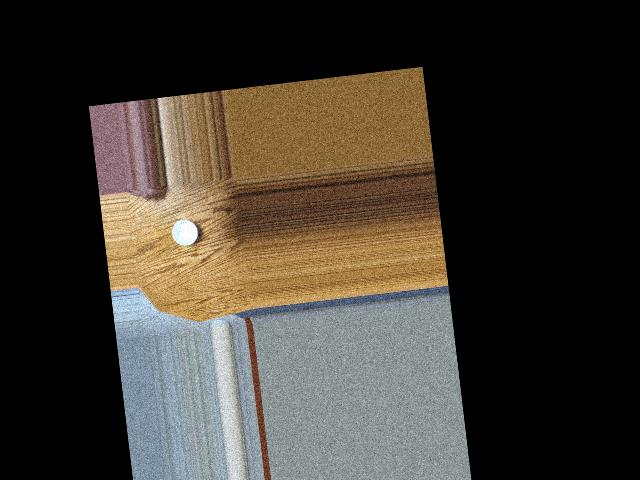cotage: (165, 213, 198, 249)
